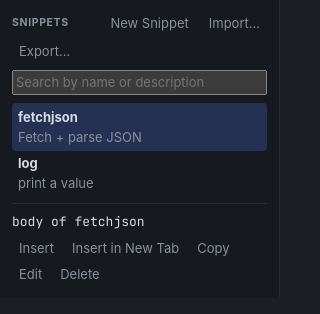
Scenario: snippets panel (spec §13.1) › typing a new query previews the top match again rather than keeping a stale selection
Click the option "log print a value": click(56, 173) [18,155,94,191]
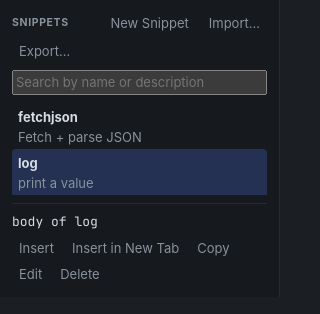
Now the text with class "snippets-preview" reads "body of log", box [12,213,98,230]
In the search field named "Search snippets": (140, 82) [12,70,267,95], type "o"
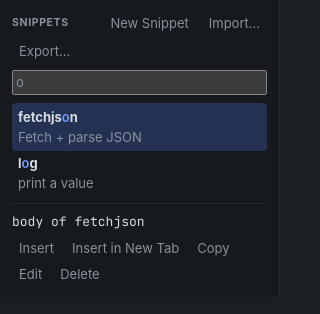
Now the text with class "snippets-preview" reads "body of fetchjson", box [12,213,145,230]
